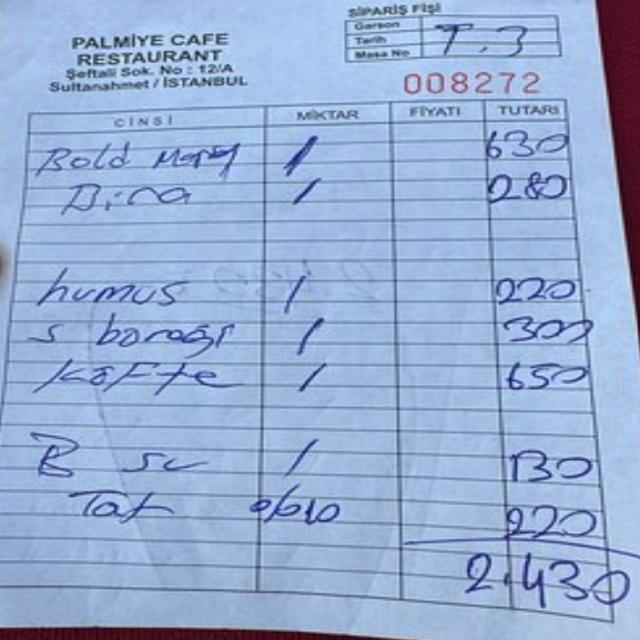items: (21, 133, 622, 536)
shop: (21, 22, 279, 111)
tot: (424, 539, 640, 633)
